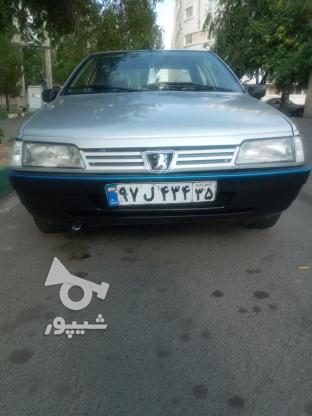car: (103, 181, 216, 208)
